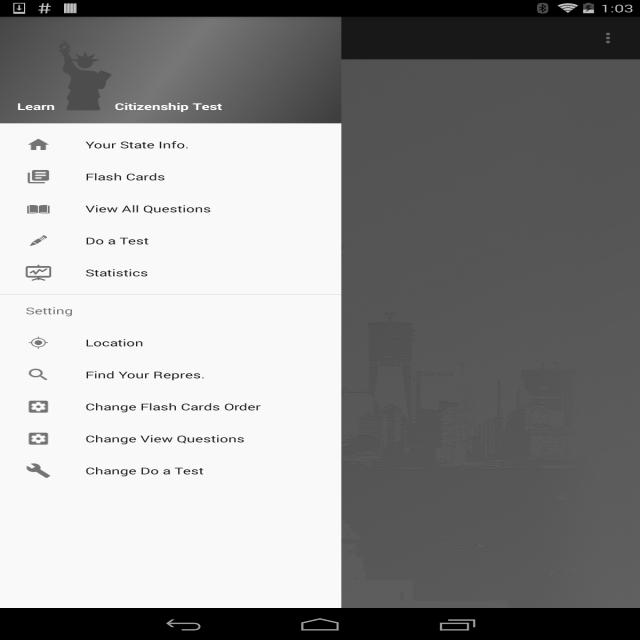CheckedTextView: (26, 192, 316, 225), (26, 358, 316, 391), (26, 128, 316, 160), (26, 160, 316, 192), (26, 224, 316, 256), (26, 256, 316, 288), (26, 326, 316, 358), (26, 390, 316, 422), (26, 422, 316, 454), (26, 454, 316, 486)
ImageButton: (9, 17, 68, 59)
ImageView: (0, 59, 640, 608), (17, 27, 154, 113), (589, 22, 631, 54)
TextView: (0, 294, 341, 326), (17, 89, 222, 113), (85, 29, 271, 47)
